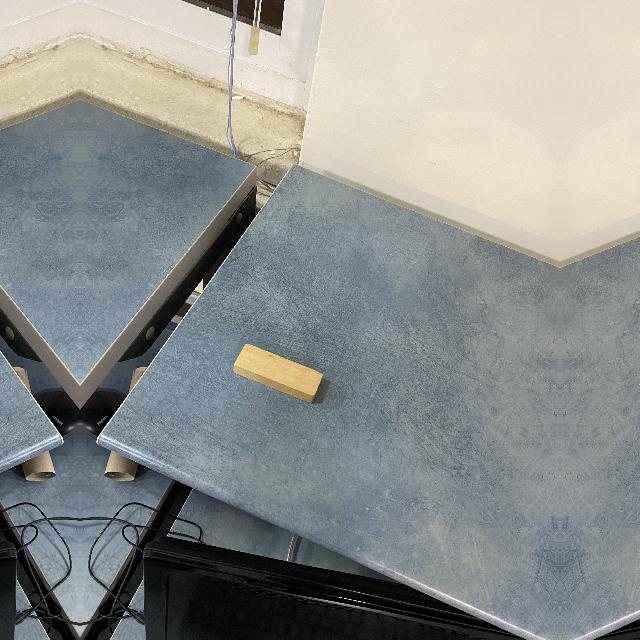jenga: (233, 343, 323, 404)
